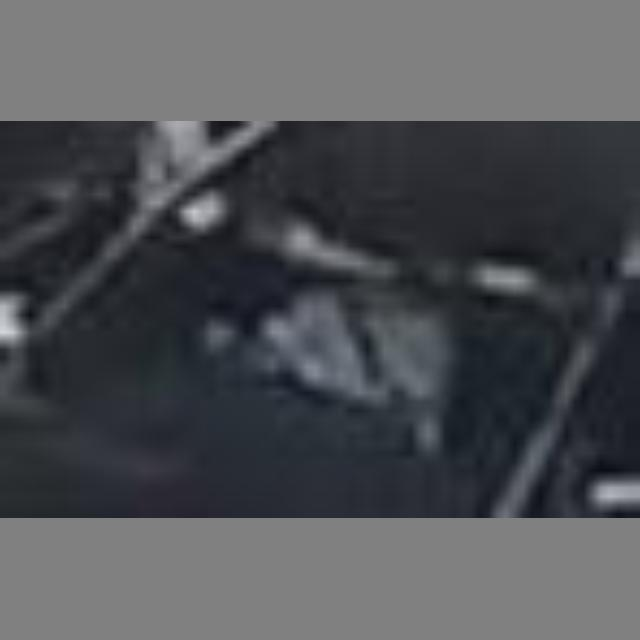pakai: (285, 242, 476, 450)
